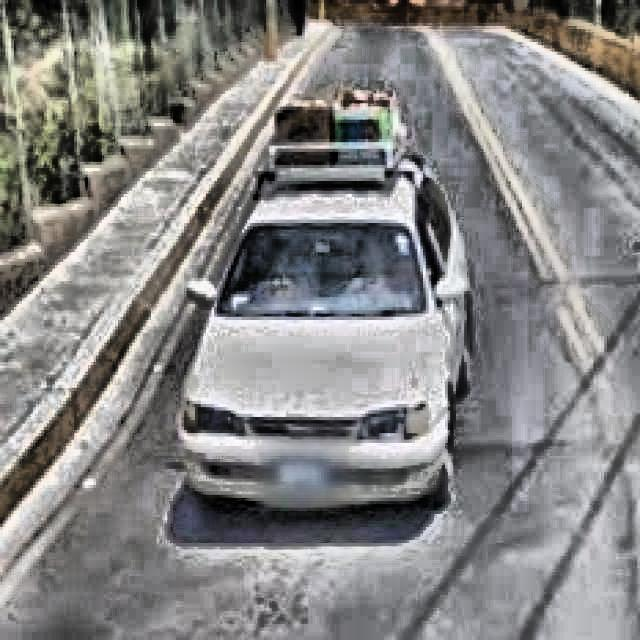carro: (180, 122, 470, 540)
